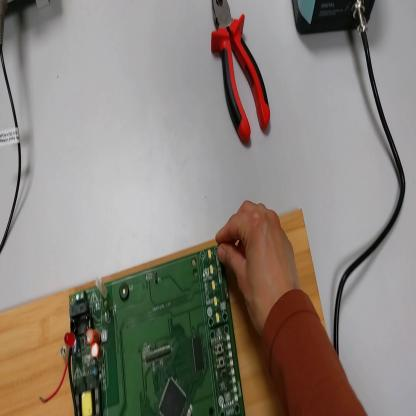hand: (216, 199, 303, 338)
low voltage board: (42, 241, 246, 416)
oscilloscope: (2, 1, 51, 22)
pliers: (209, 2, 274, 149)
welder station: (292, 3, 375, 38)
working area: (1, 205, 328, 416)
